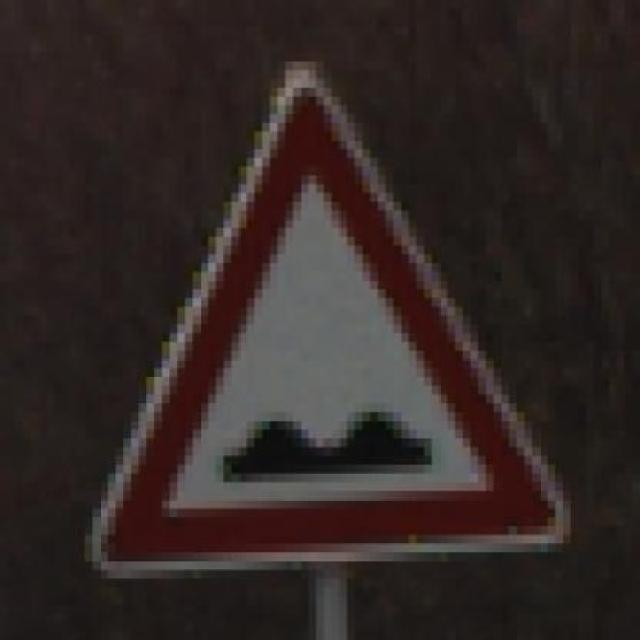Uneven Road: (64, 70, 588, 578)
